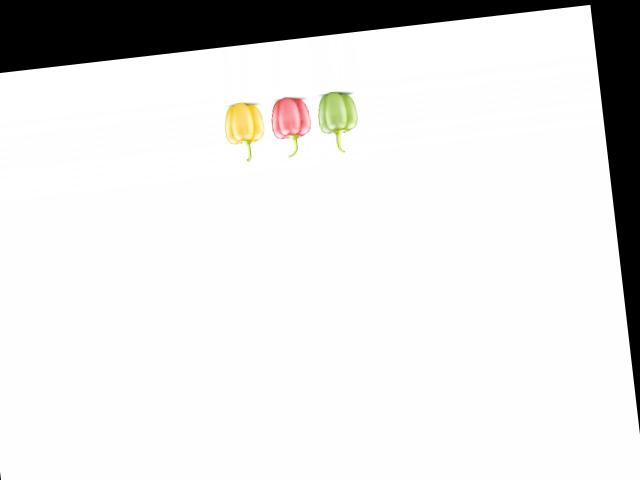bell_pepper: (315, 86, 365, 154)
